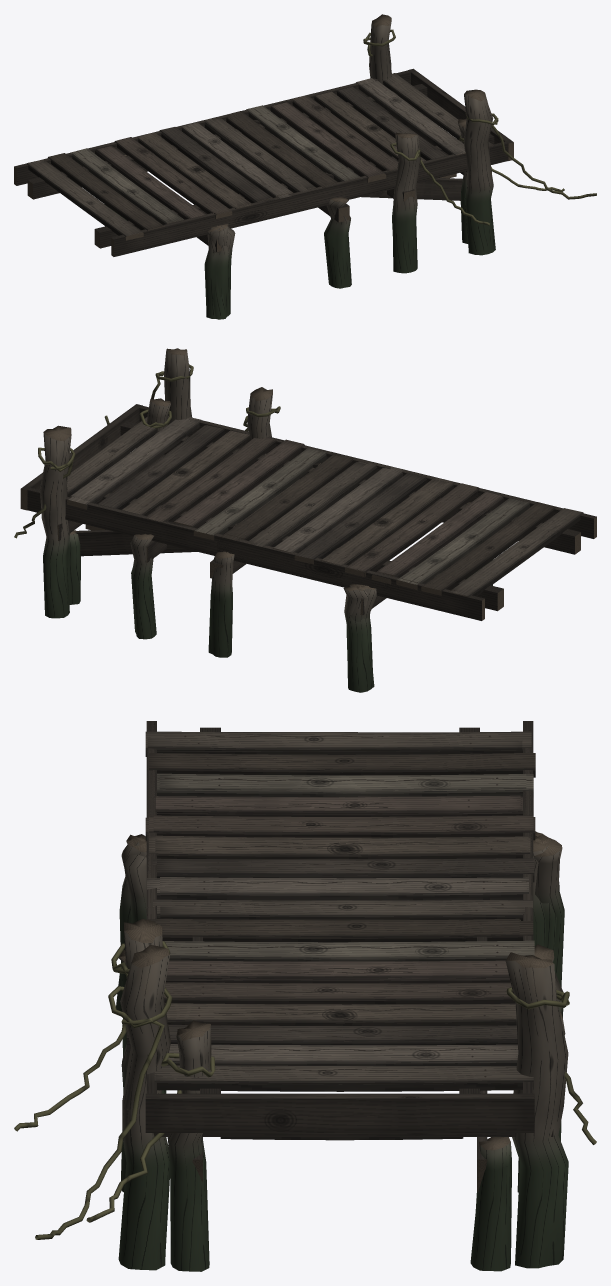
File: dock_cuyabeno_hp_LOD0.glb
3 views of the same model, one above another, from view 1: azimuth 30°, elevation 25°; view 2: azimuth 150°, elevation 25°; view 3: azimuth 270°, elevation 25° (orthographic). The views are drawn at different scales.
Parts seen in each view (by area): view 1: Dock_End_LOD0, Dock_Step_LOD0, Dock_Straight_LOD0; view 2: Dock_End_LOD0, Dock_Step_LOD0, Dock_Straight_LOD0; view 3: Dock_End_LOD0, Dock_Step_LOD0, Dock_Straight_LOD0.
Part boxes in pixels (x1,y1,x2,y2): Dock_End_LOD0: (14, 14, 596, 318); Dock_Step_LOD0: (15, 111, 564, 319); Dock_Straight_LOD0: (54, 73, 491, 313); Dock_End_LOD0: (14, 348, 596, 687); Dock_Step_LOD0: (67, 398, 593, 657); Dock_Straight_LOD0: (67, 387, 514, 692); Dock_End_LOD0: (35, 721, 596, 1270); Dock_Step_LOD0: (86, 721, 563, 1271); Dock_Straight_LOD0: (14, 748, 565, 1192).
Size of the model in its own units: 4.87 by 1.6 by 2.79.
Materials: 1 (1 with a texture image).
